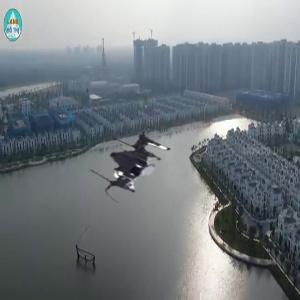drone: (89, 119, 181, 211)
